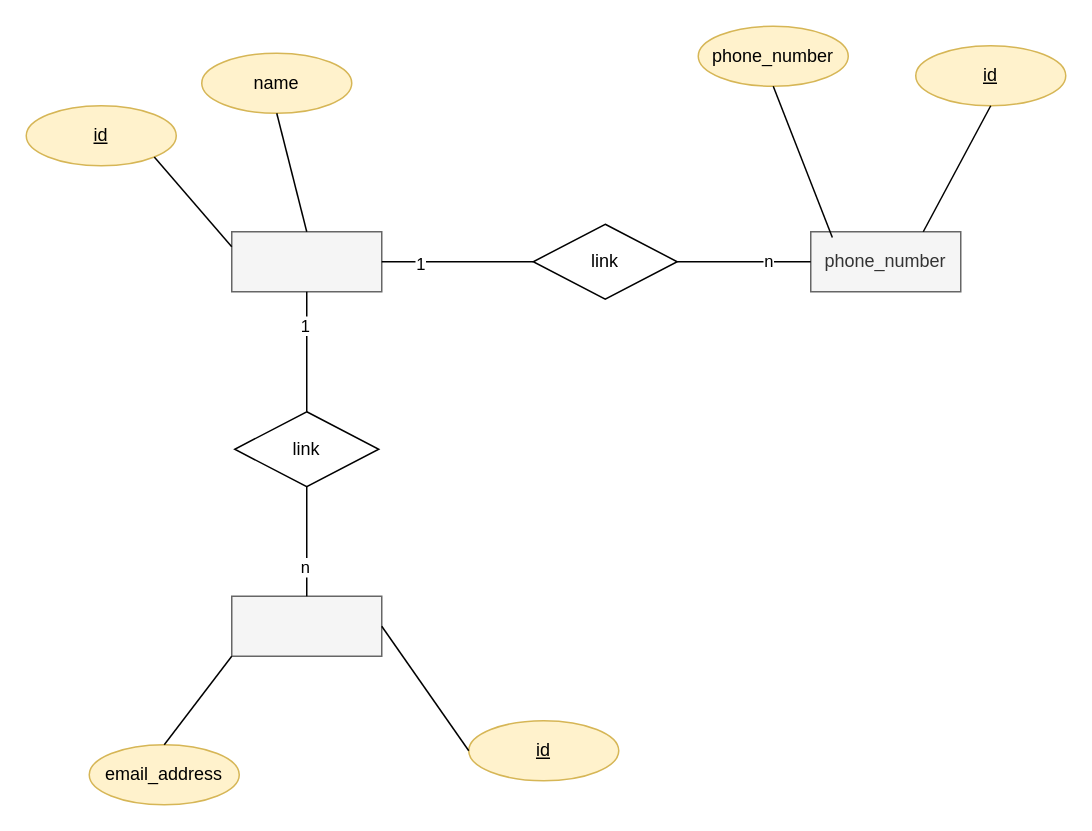
This 1092x831 diagram has some shape labels left out. Here are the shapes that lost their labels. From the top down, the centre of each, then its label:
[306,261]: peple
[306,625]: email
